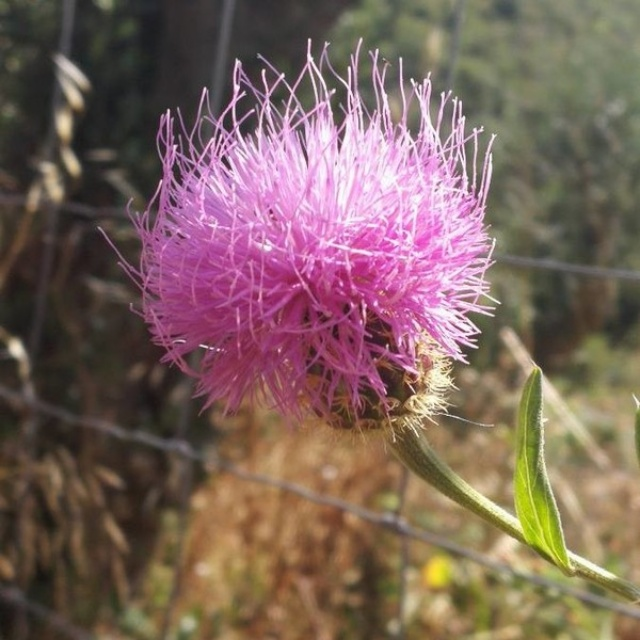obstacle: (134, 37, 589, 548)
